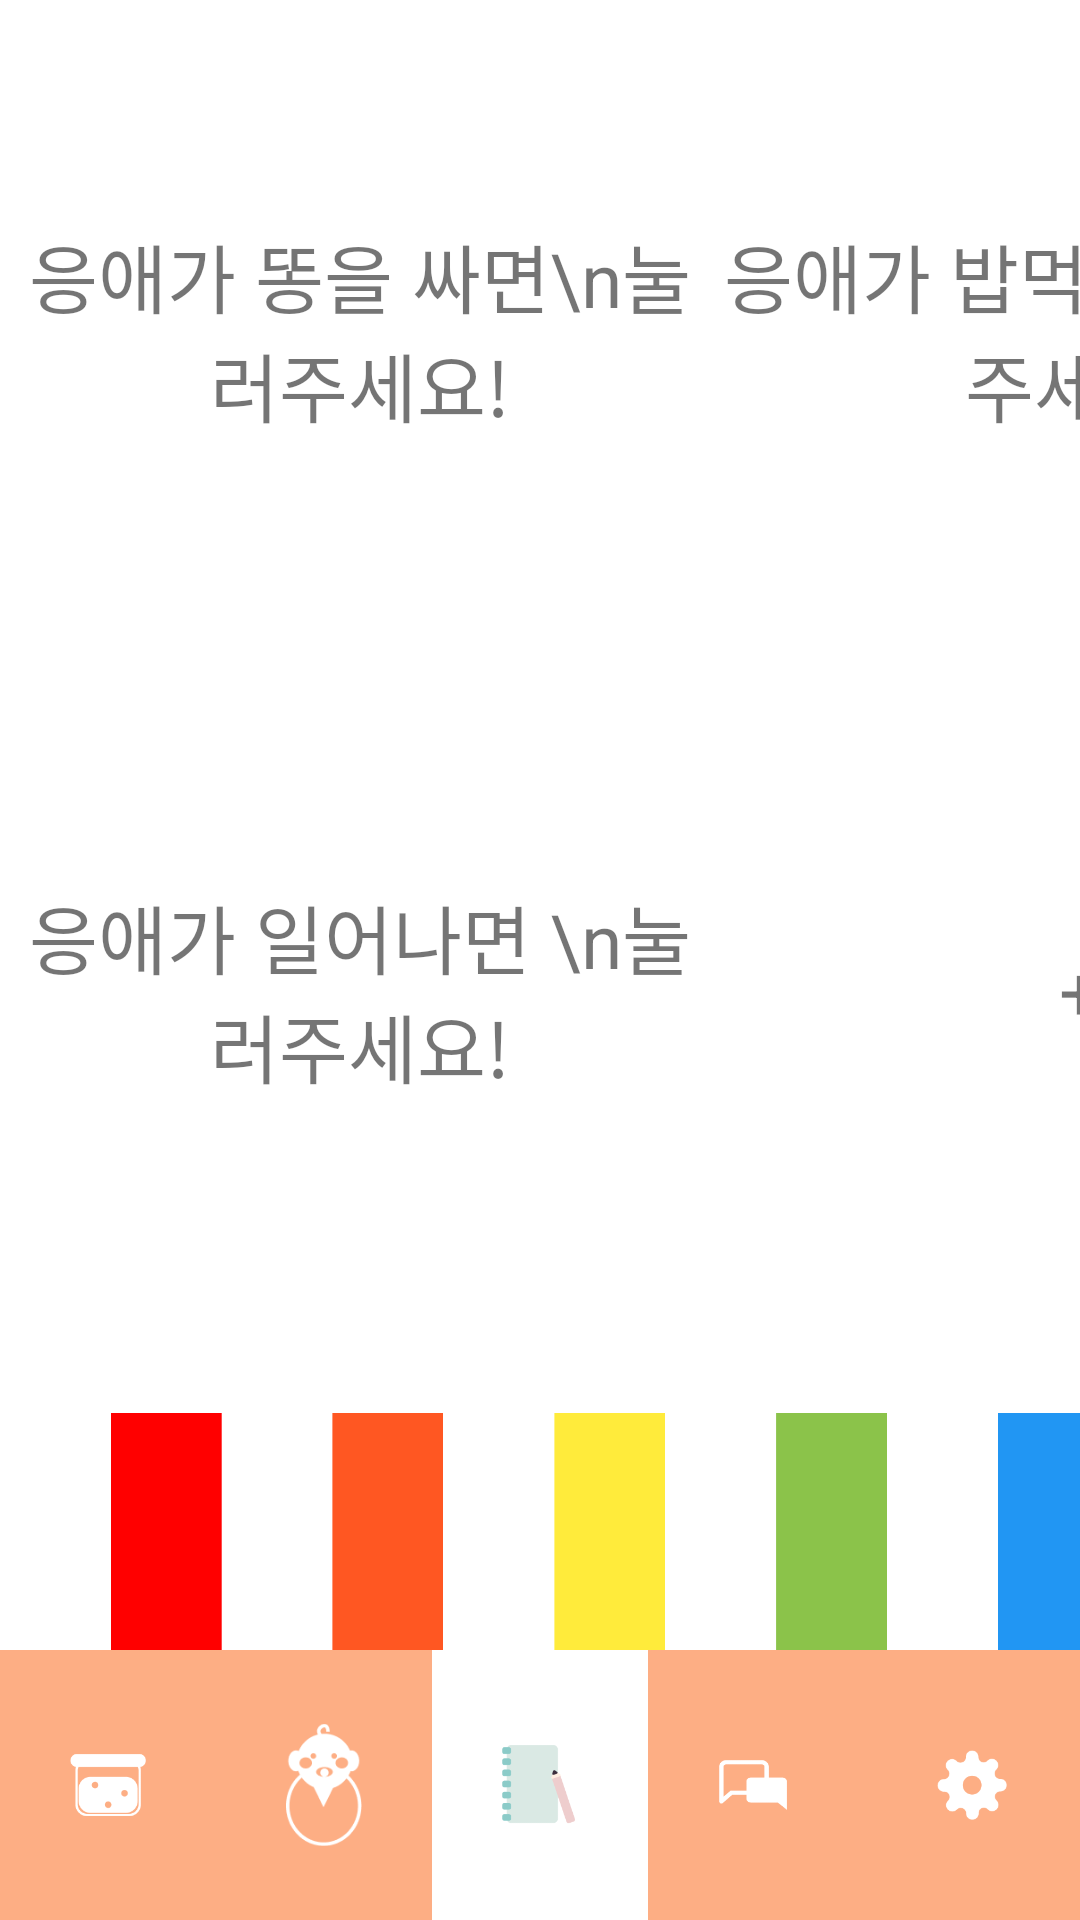

Locate icon controls on the screen. Image size 1080x1920, boxes as Rect(x1, y1, x2, y2).
babybutton: Rect(286, 1724, 362, 1846)
communitybutton: Rect(719, 1760, 787, 1810)
foodbutton: Rect(70, 1754, 146, 1816)
settingbutton: Rect(937, 1750, 1007, 1820)
